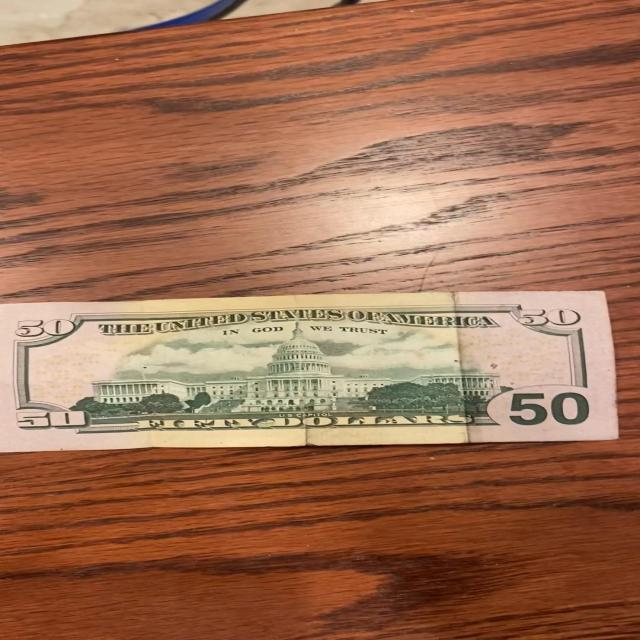50-Back: (0, 286, 622, 454)
